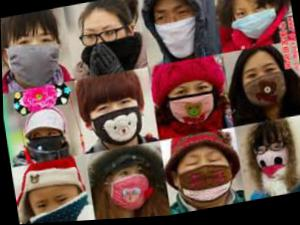OK: (174, 148, 234, 211), (4, 28, 68, 87), (150, 1, 207, 66), (92, 94, 143, 151), (166, 81, 216, 132), (105, 163, 151, 216), (240, 62, 287, 112), (251, 137, 296, 185), (233, 1, 279, 47), (26, 123, 64, 161)
WRONG: (81, 19, 136, 69), (27, 184, 84, 224)
